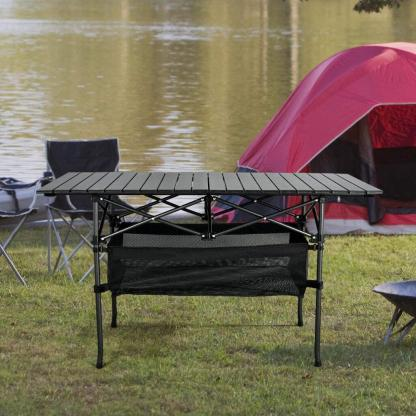table: (34, 165, 388, 370)
